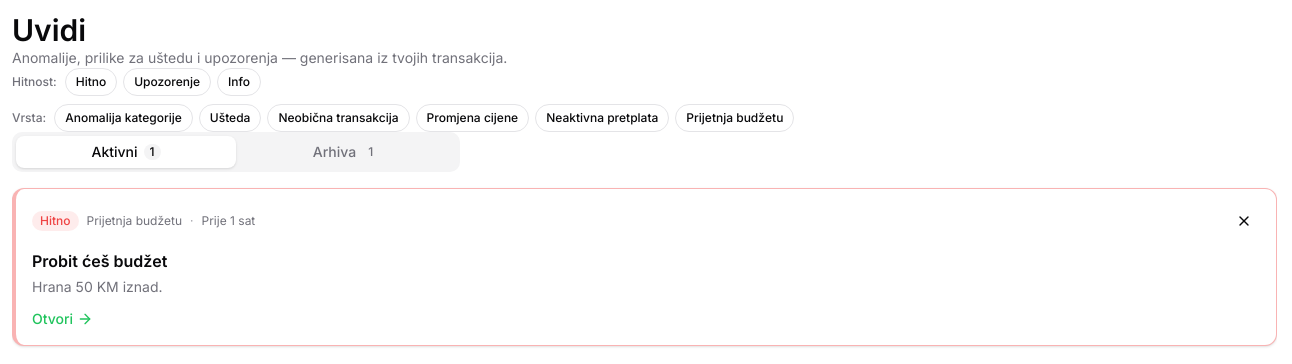
UvidiClient › switches to archived tab
What coordinates should you click on to do the following:
click the tab "Arhiva 1"
I would click on:
 (346, 152)
Its box is 236,136 -> 456,168.
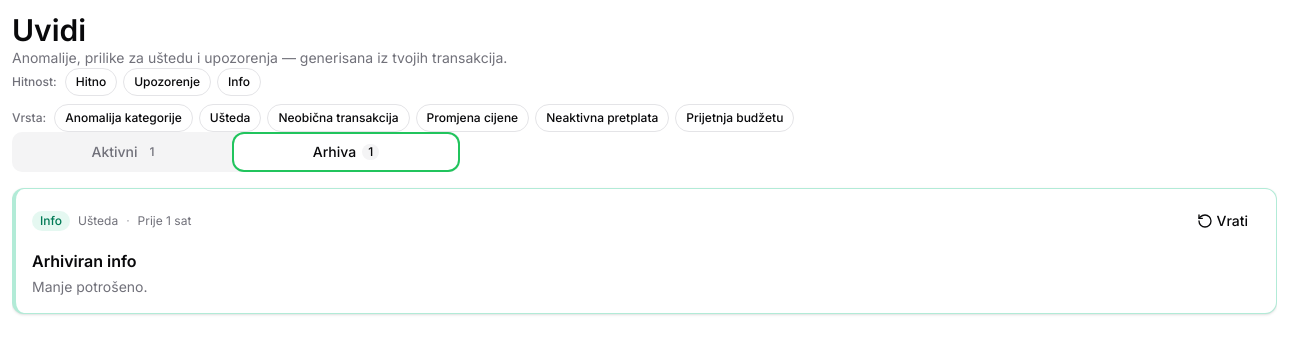
Check: the heading "Arhiviran info" is shown, box 32,251 -> 137,271
